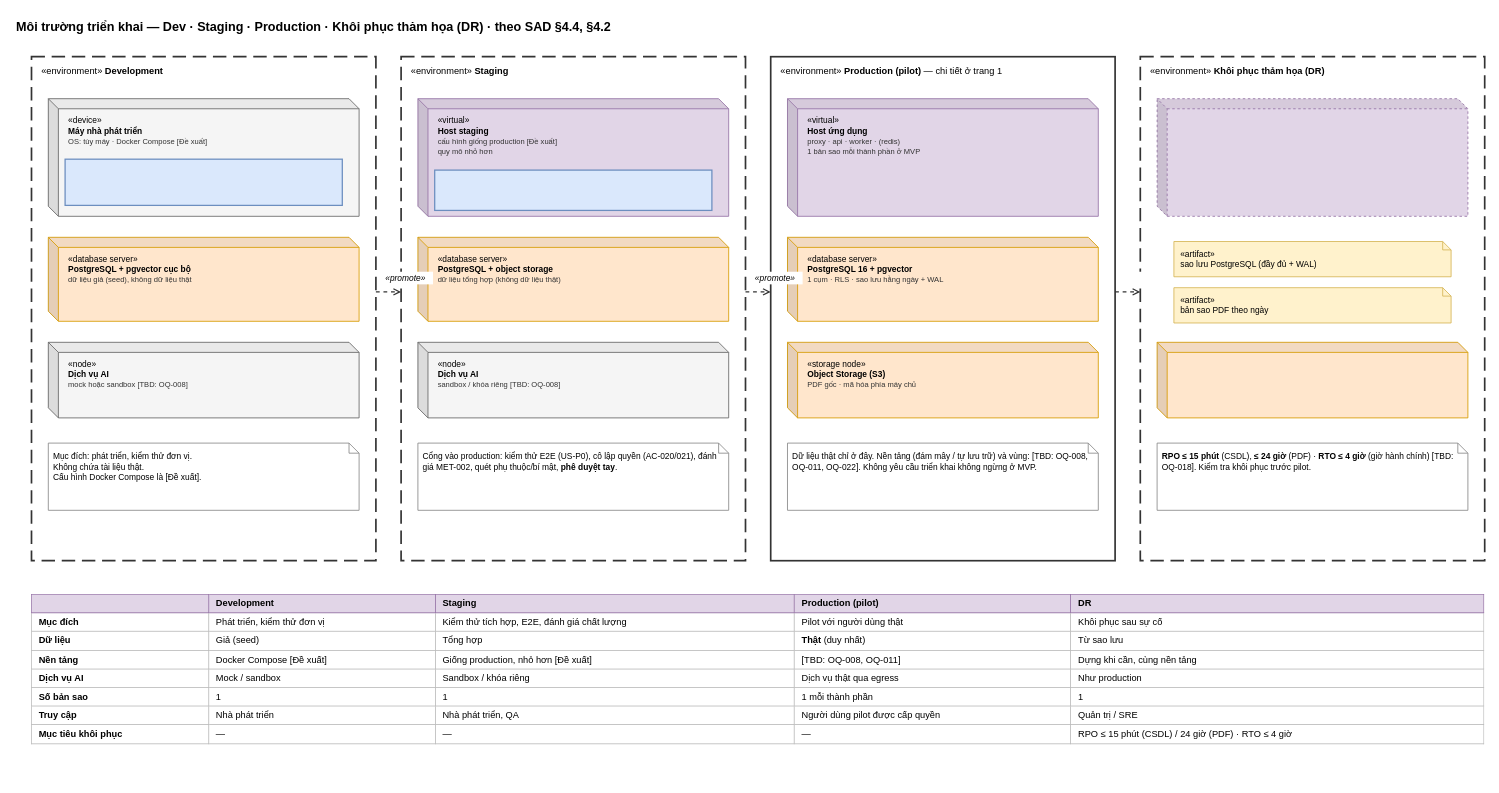
This 1499x793 diagram has some shape labels left out. The shapes that lost their labels are listed below. From the top down, each one's centre as x and y in pixels, then its label:
At pixel 1312 157: "«virtual» Host khôi phục (dựng khi cần) không có hot standby ở MVP (SAD §4.2)".
At pixel 203 182: "«virtual» api + worker (container) cùng ảnh app-image, bản đang phát triển".
At pixel 573 190: "«virtual» api + worker + proxy ứng viên phát hành app-image v0.1".
At pixel 1144 277: "«restore»".
At pixel 1312 379: "«storage node» Kho sao lưu đã mã hóa khôi phục theo thời điểm (PITR)".
